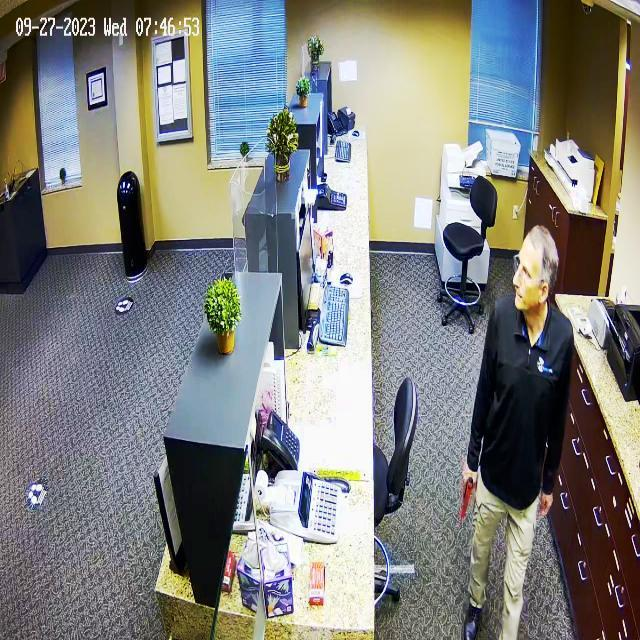Gun: (458, 464, 480, 535)
